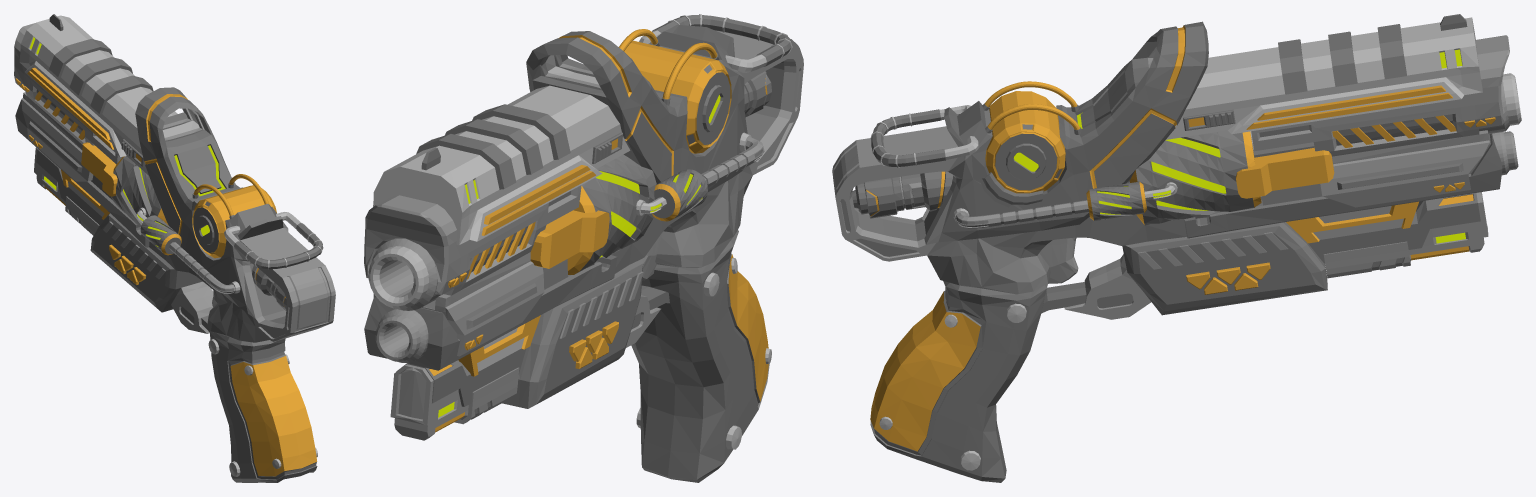
The model's file is remake_193.glb.
The picture shows the model from 3 angles, left to right: view 1: azimuth 30°, elevation 25°; view 2: azimuth 150°, elevation 25°; view 3: azimuth 270°, elevation 25°; orthographic projection. The views are drawn at different scales.
Parts seen in each view (by area): view 1: remake_193; view 2: remake_193; view 3: remake_193.
Part boxes in pixels (<box>): remake_193: <box>14,14,335,482</box>; remake_193: <box>364,14,803,482</box>; remake_193: <box>832,14,1521,482</box>.
Size of the model in its own units: 0.119 by 0.3868 by 0.5406.
